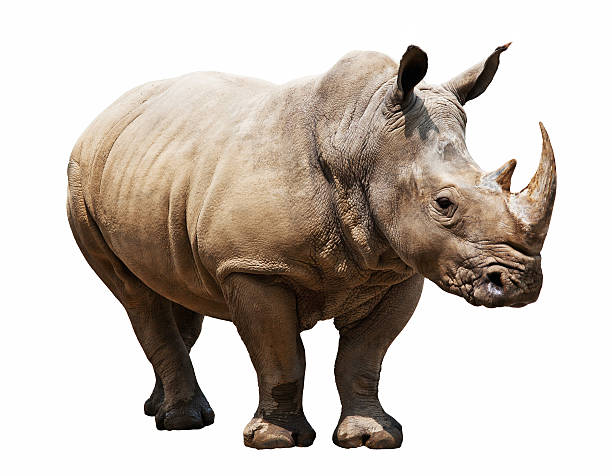rhino: (334, 30, 581, 331)
